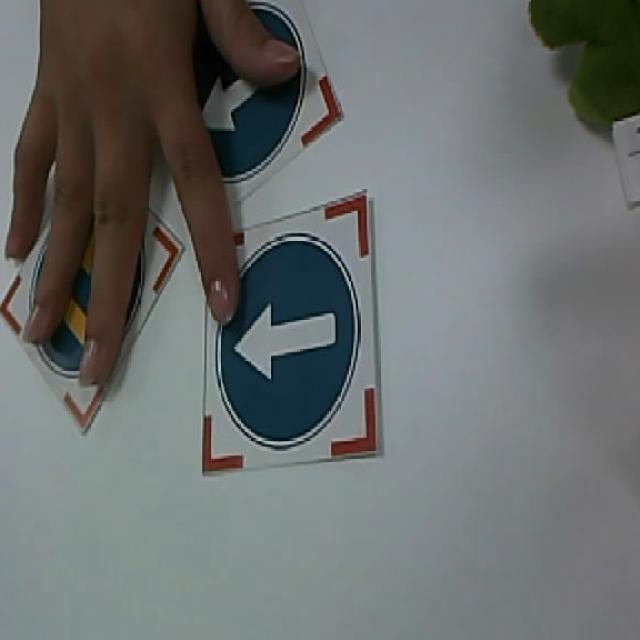straight: (202, 185, 374, 474), (141, 0, 346, 203)
